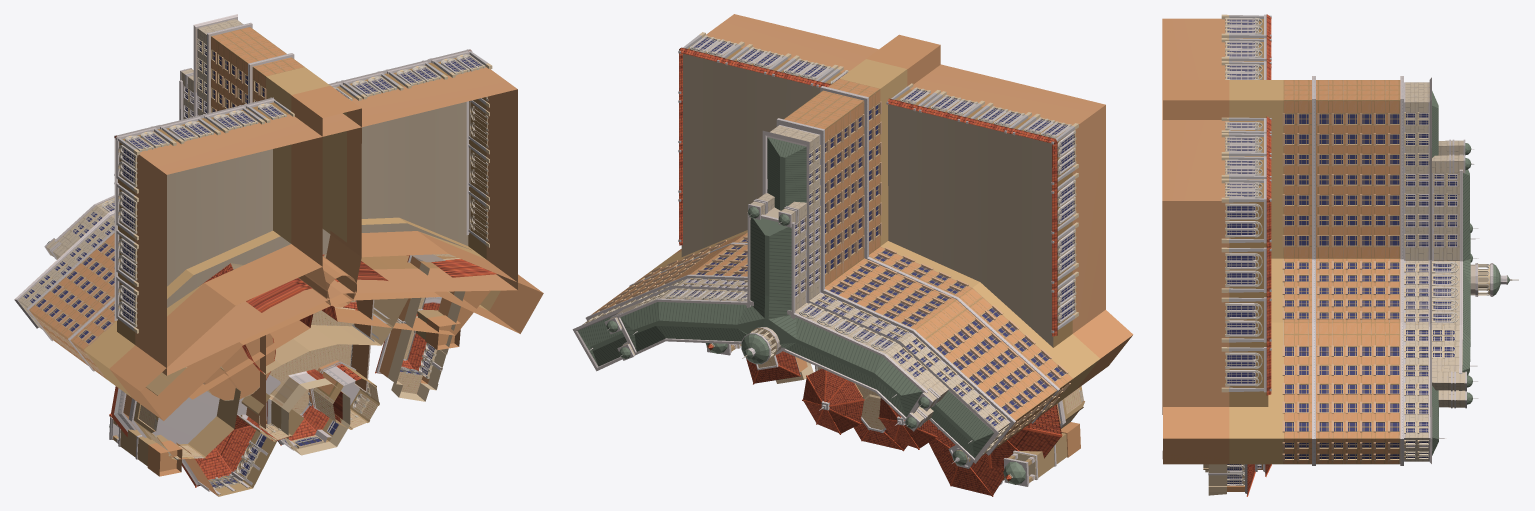
Rendered from UUDRPCom (1).fbx.
3 views of the same model, side by side, from view 1: azimuth 30°, elevation 25°; view 2: azimuth 150°, elevation 25°; view 3: azimuth 270°, elevation 25° (orthographic). The views are drawn at different scales.
Visible parts, largest first — view 1: Cube.019; view 2: Cube.019; view 3: Cube.019.
Boxes of the visible parts, bbox=[...] form: Cube.019: bbox=[14, 14, 543, 496]; Cube.019: bbox=[572, 14, 1133, 496]; Cube.019: bbox=[1162, 14, 1518, 496].
Size of the model in its own units: 156 by 139 by 112.
